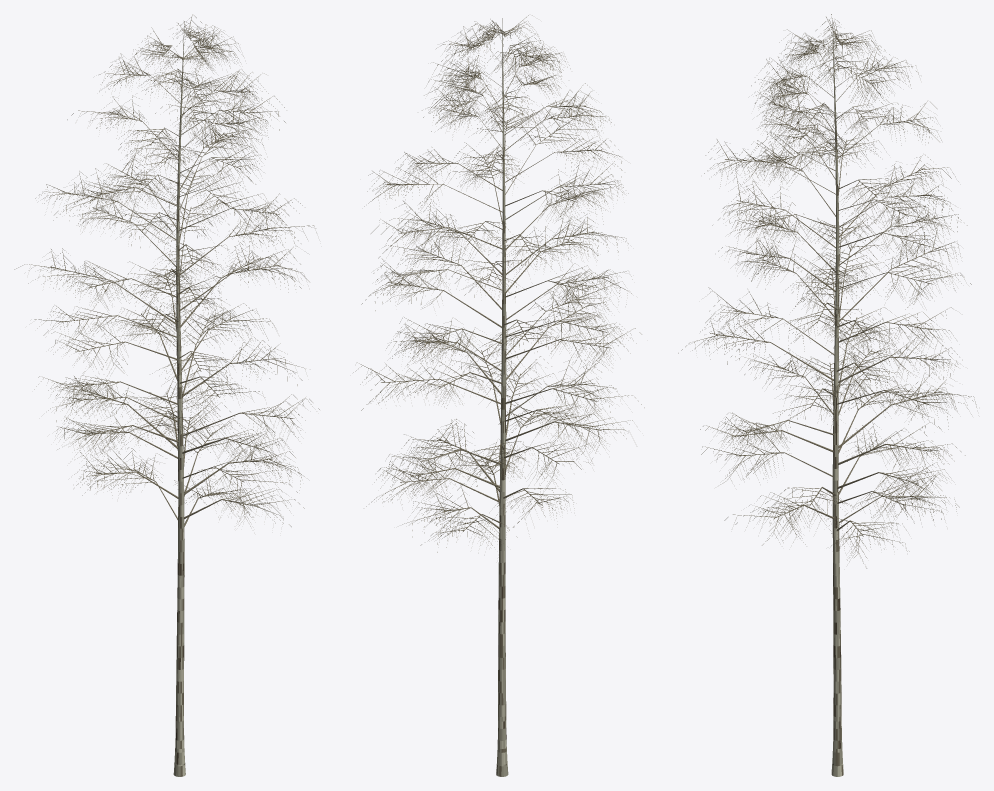
Rendered from wood.dae.
3 renders of one model, left to right at view 1: azimuth 30°, elevation 25°; view 2: azimuth 150°, elevation 25°; view 3: azimuth 270°, elevation 25°, orthographic.
Parts seen in each view (by area): view 1: tree_node; view 2: tree_node; view 3: tree_node.
Boxes of the visible parts, bbox=[...] form: tree_node: bbox=[14, 14, 319, 776]; tree_node: bbox=[353, 15, 644, 776]; tree_node: bbox=[678, 14, 976, 776].
Bounding box in the file's own units: 6.49 × 6.56 × 18.
